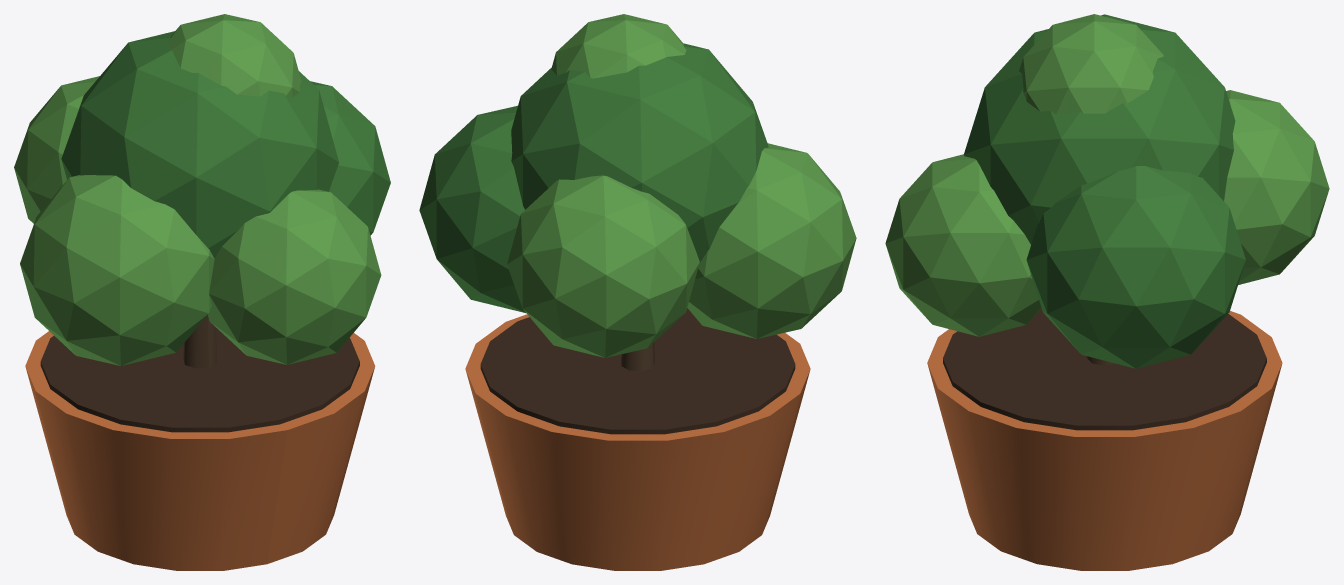
Rendered from plant.gltf.
The picture shows the model from 3 angles, left to right: view 1: azimuth 30°, elevation 25°; view 2: azimuth 150°, elevation 25°; view 3: azimuth 270°, elevation 25°; orthographic projection. The views are drawn at different scales.
Parts seen in each view (by area): view 1: foliage (×6), pot, soil, stem; view 2: foliage (×5), pot, soil, stem; view 3: foliage (×5), pot, soil.
Boxes of the visible parts, x1,y1,x2,y2 form: foliage (×6): (14,14,390,365); pot: (25,331,375,570); soil: (40,328,359,432); stem: (183,315,217,368); foliage (×5): (419,14,856,357); pot: (465,314,810,570); soil: (480,308,795,434); stem: (621,342,654,371); foliage (×5): (885,14,1329,368); pot: (927,311,1282,570); soil: (943,308,1266,430).
Size of the model in its own units: 0.85 by 1.06 by 0.85.
